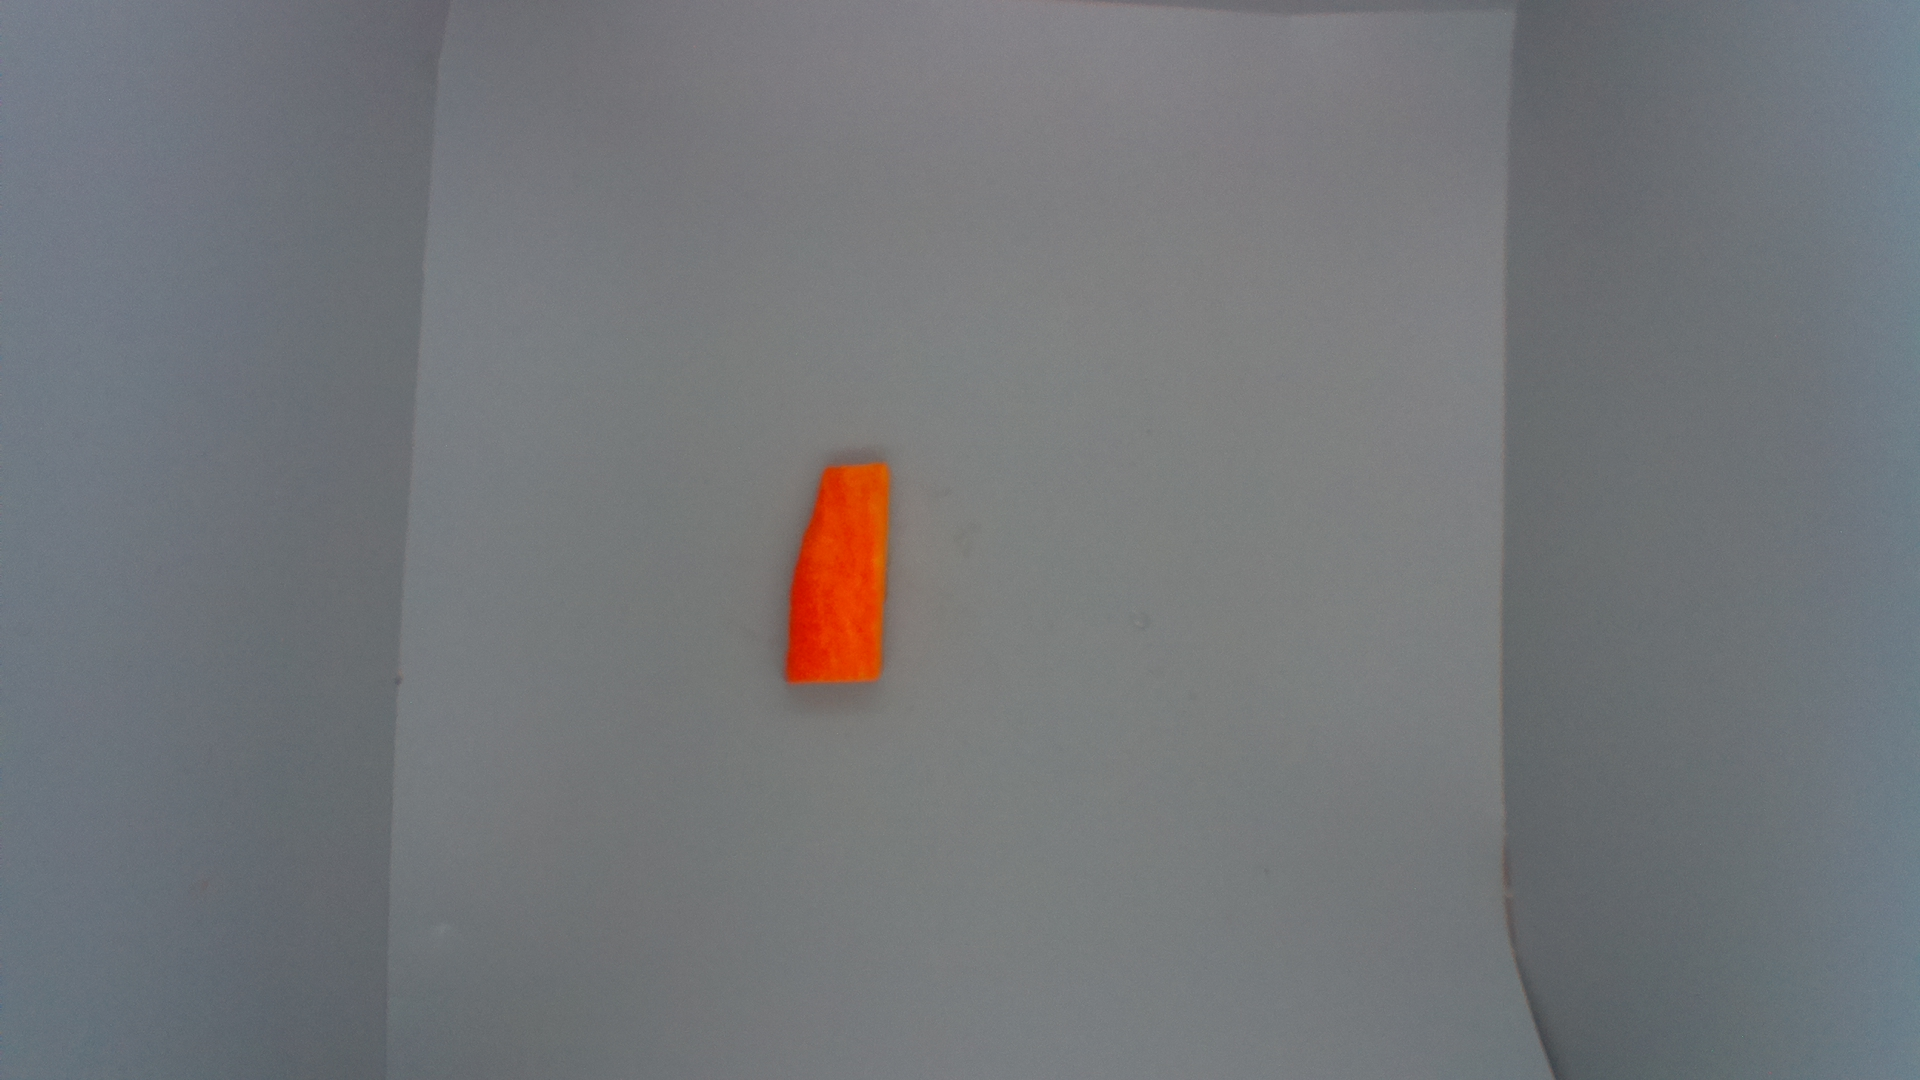carrot: (781, 458, 895, 684)
